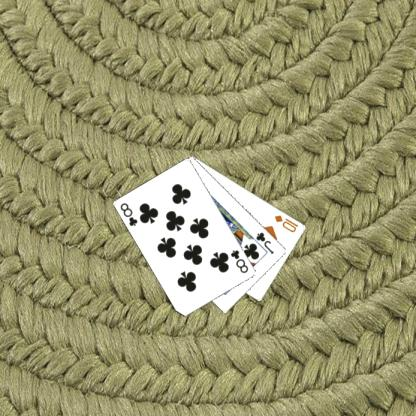10D: (272, 212, 300, 234)
8C: (228, 247, 250, 274), (118, 200, 139, 228)
JC: (254, 230, 275, 256)
